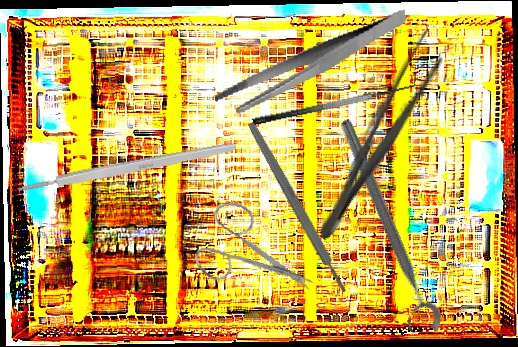Dressing Forceps: (307, 25, 453, 248), (204, 8, 419, 118)
Fixation Ring: (321, 115, 447, 343)
Iris Scissors: (186, 190, 317, 310)
Scalpel Handle: (245, 120, 350, 295), (16, 139, 239, 196)
Spatula Surgical: (249, 72, 420, 127)
